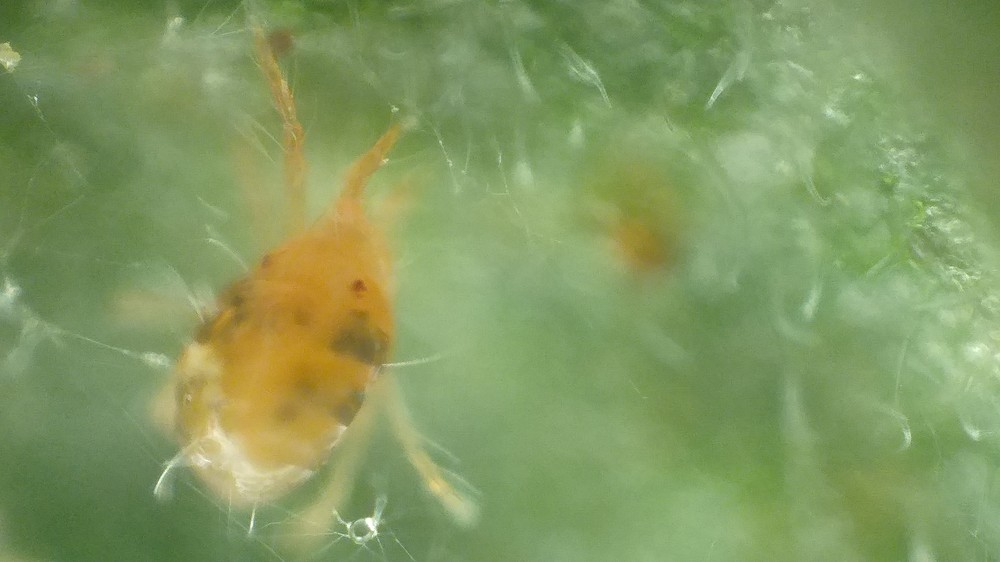Aracnido Rojo: (143, 37, 499, 544)
